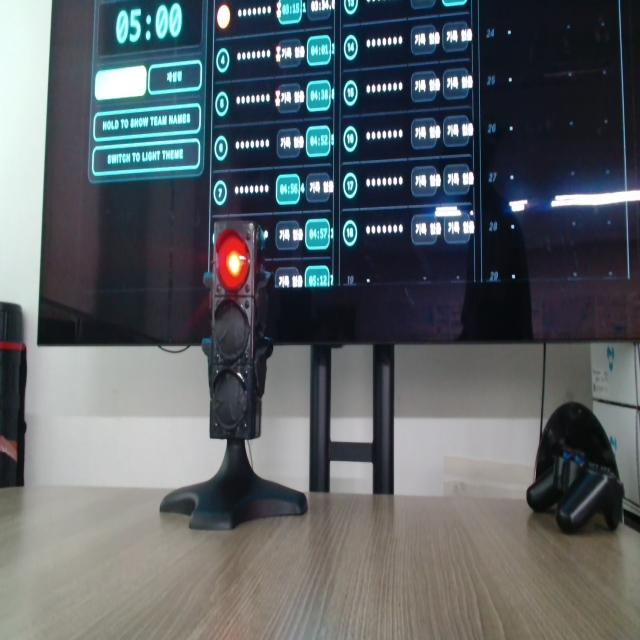red_light: (217, 231, 249, 291)
